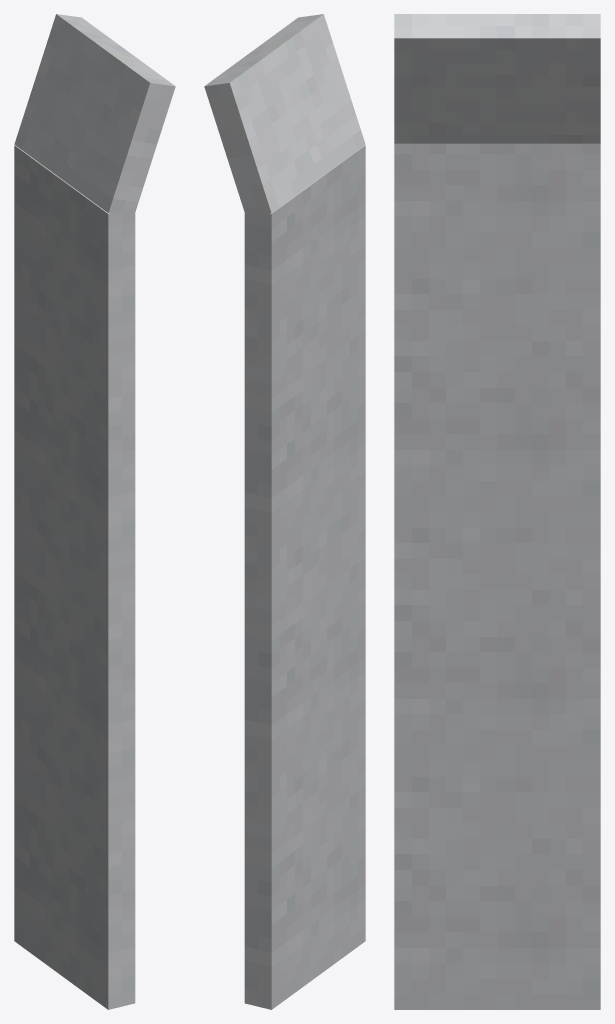
Rendered from soundbarrier.obj.
3 renders of one model, left to right at view 1: azimuth 30°, elevation 25°; view 2: azimuth 150°, elevation 25°; view 3: azimuth 270°, elevation 25°, orthographic. The views are drawn at different scales.
Visible parts, largest first — view 1: cube; view 2: cube; view 3: cube.
Boxes of the visible parts, x1,y1,x2,y2 form: cube: [14, 14, 175, 1009]; cube: [204, 14, 365, 1009]; cube: [394, 14, 600, 1009].
Bounding box in the file's own units: 0.3107 × 4.03 × 0.75.
1 material, 1 textured.
